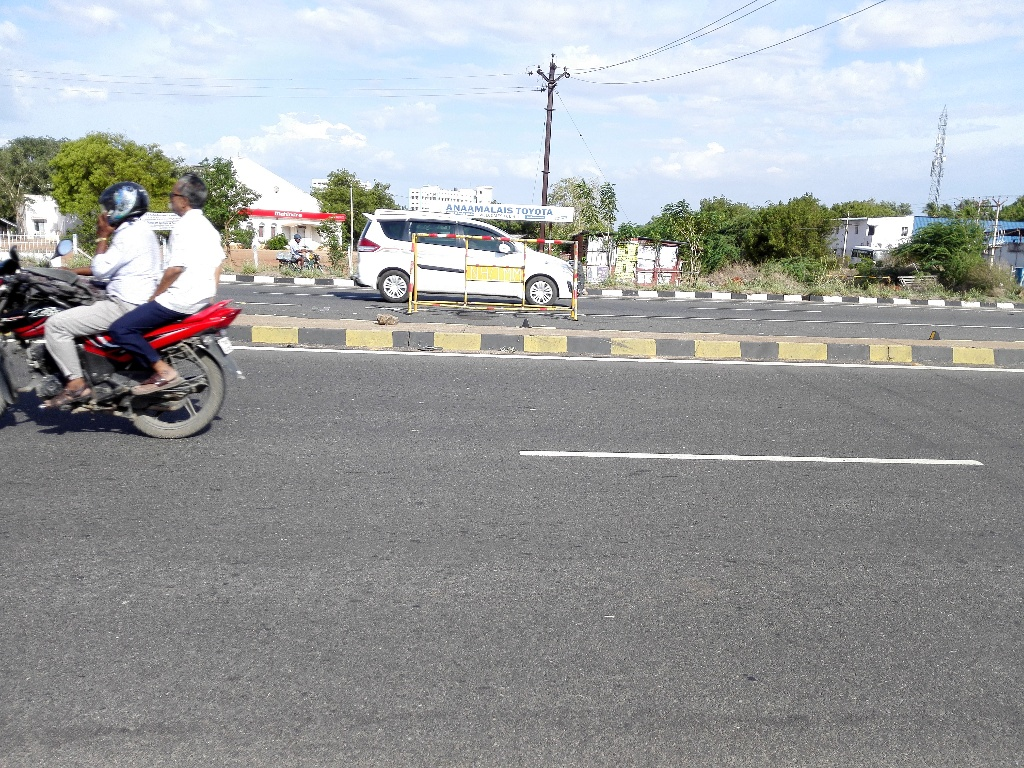biker: (1, 124, 260, 453)
helmet: (86, 167, 157, 237)
nohelmet: (163, 153, 216, 226)
